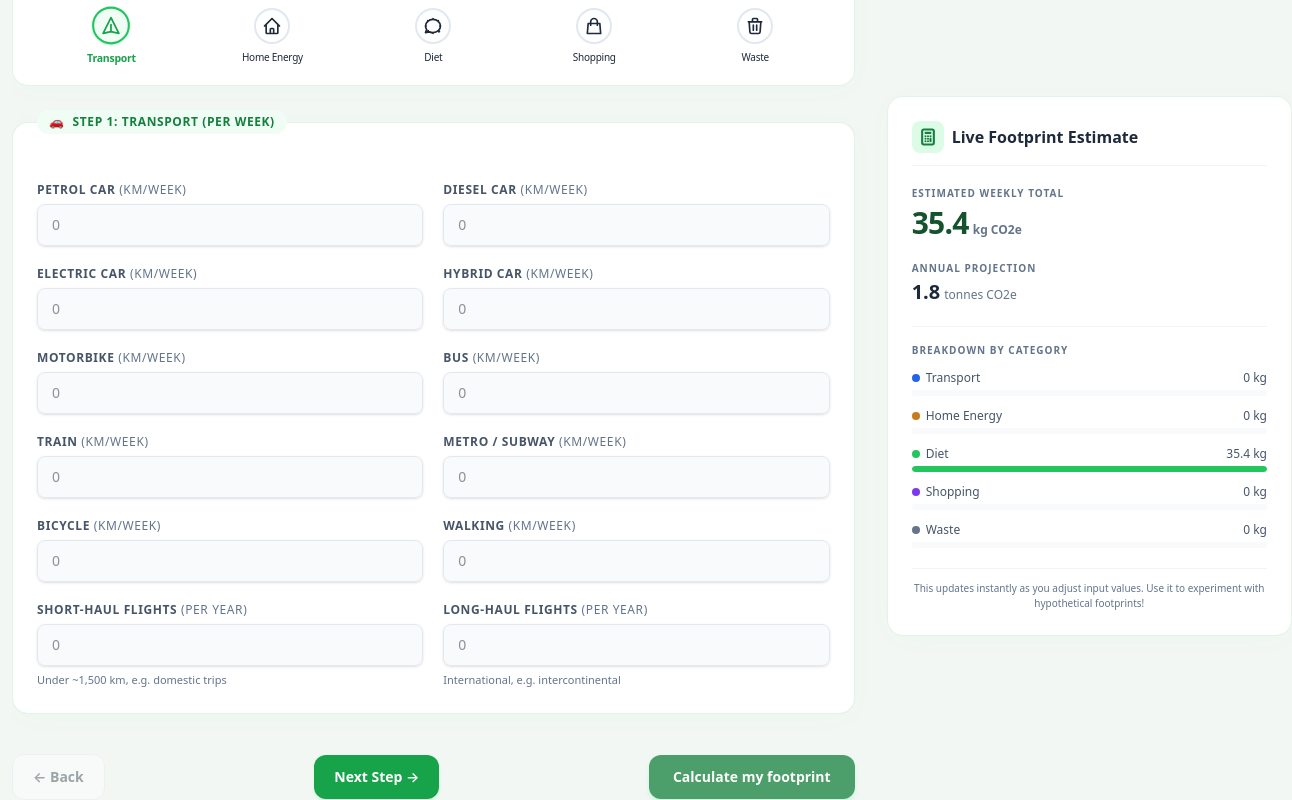
Scenario: FootprintForm › shows an error message if the submission fails
(page scrolled)
Click the button "Calculate my footprint": (752, 776) left=649, top=754, right=855, bottom=798
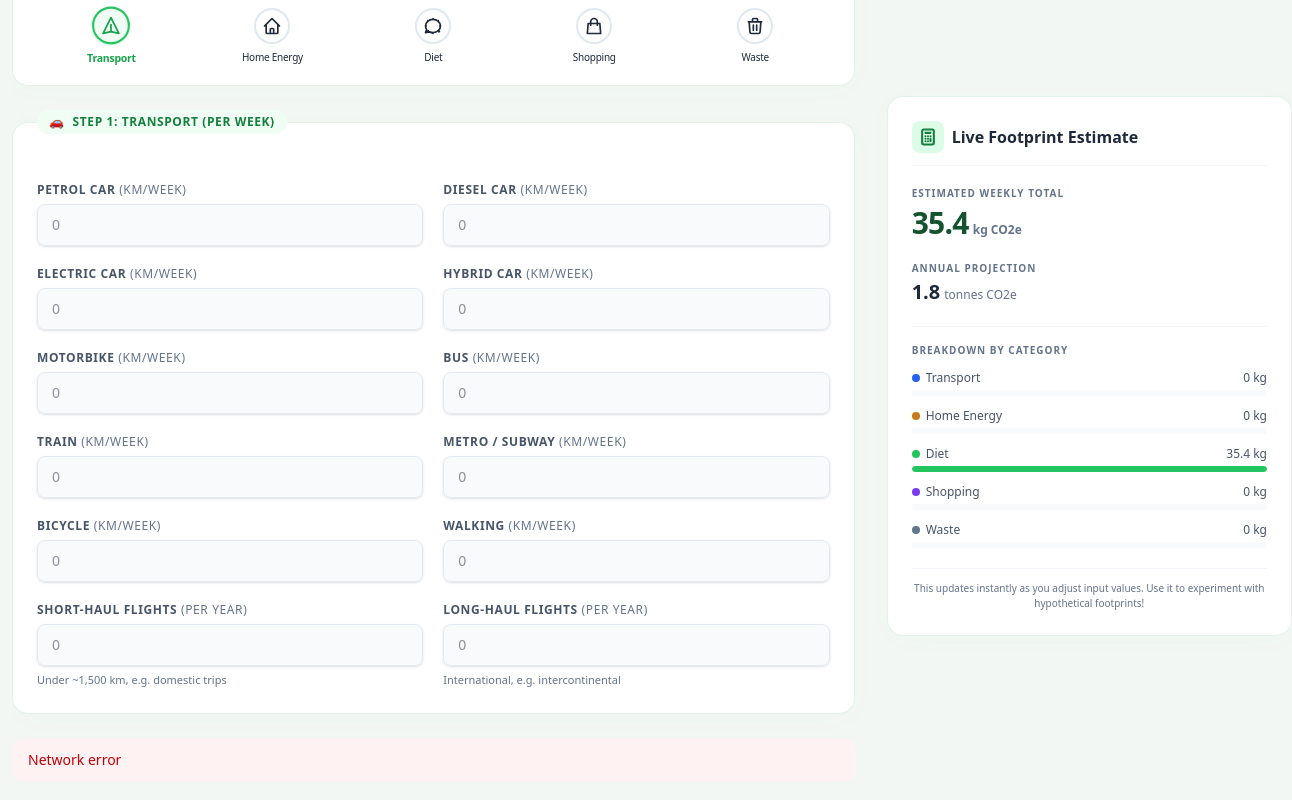
Check: the message reads "Network error", box left=28, top=750, right=121, bottom=768
